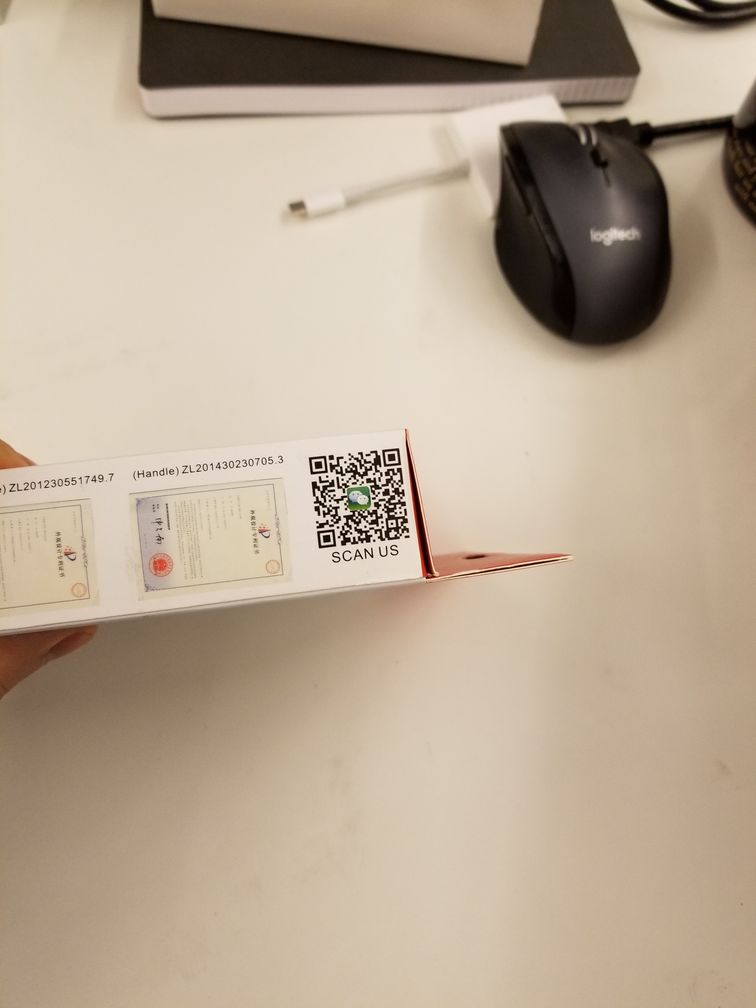QR_CODE: (299, 440, 424, 569)
